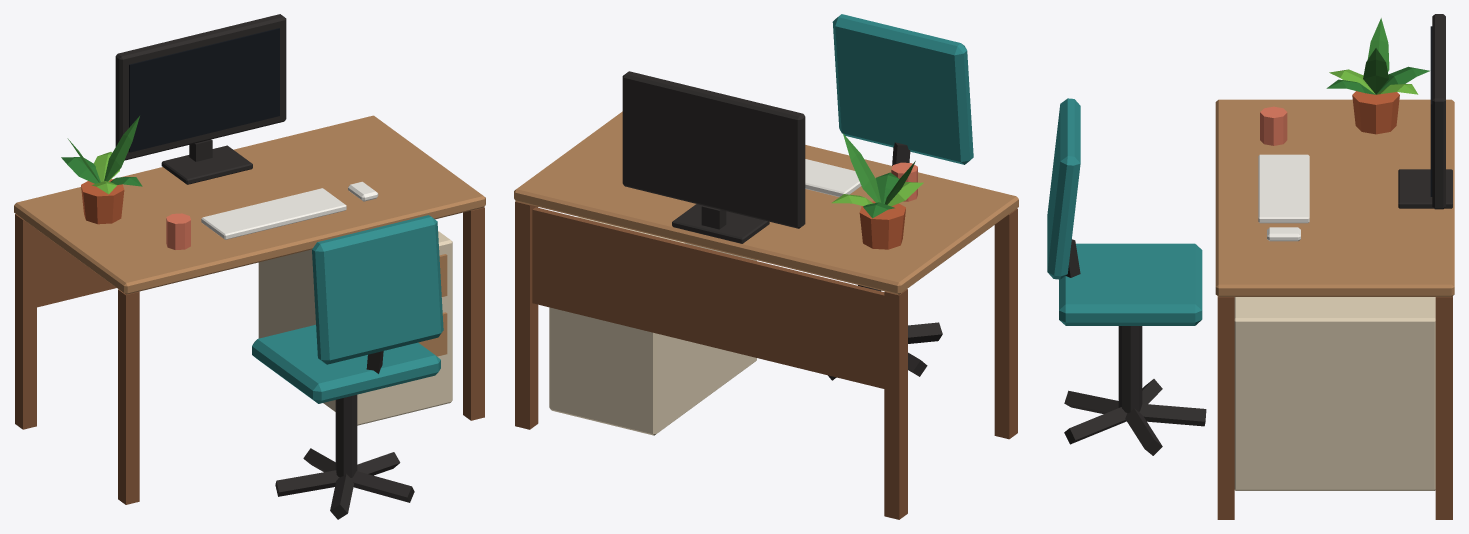
File: workstation.glb
3 renders of one model, left to right at view 1: azimuth 30°, elevation 25°; view 2: azimuth 150°, elevation 25°; view 3: azimuth 270°, elevation 25°, orthographic. The views are drawn at different scales.
Parts seen in each view (by area): view 1: body, screen; view 2: body; view 3: body, screen.
Boxes of the visible parts, bbox=[...] form: body: bbox=[14, 14, 485, 519]; screen: bbox=[129, 28, 279, 152]; body: bbox=[514, 14, 1018, 519]; body: bbox=[1047, 14, 1454, 519]; screen: bbox=[1430, 26, 1432, 196].
Bounding box in the file's own units: 1.3 × 1.2 × 1.19.
